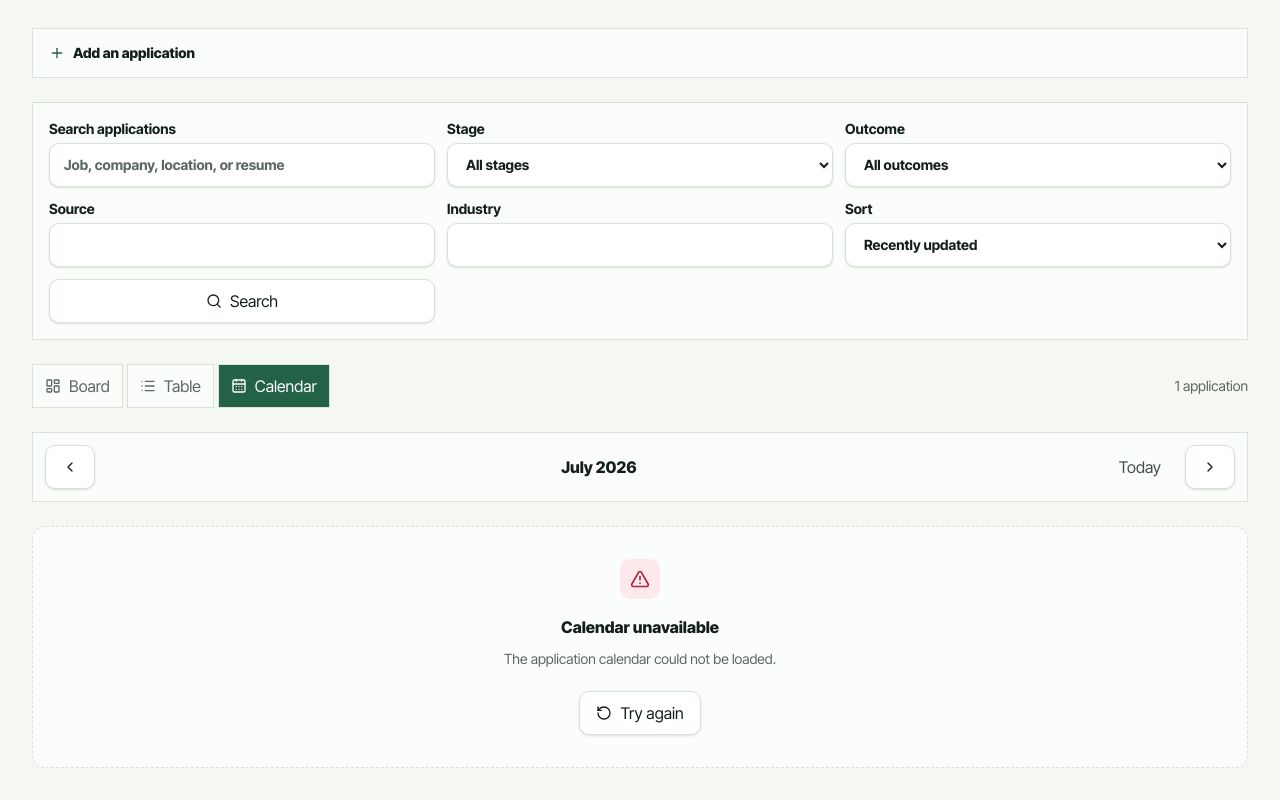
Test: Application Workspace list › shows an inline retry when the calendar request fails
(page scrolled)
Expected: the heading "Calendar unavailable" is shown, [561,616,719,636]
Click the button "Try again": (640, 712) [579,690,701,734]
(page scrolled)
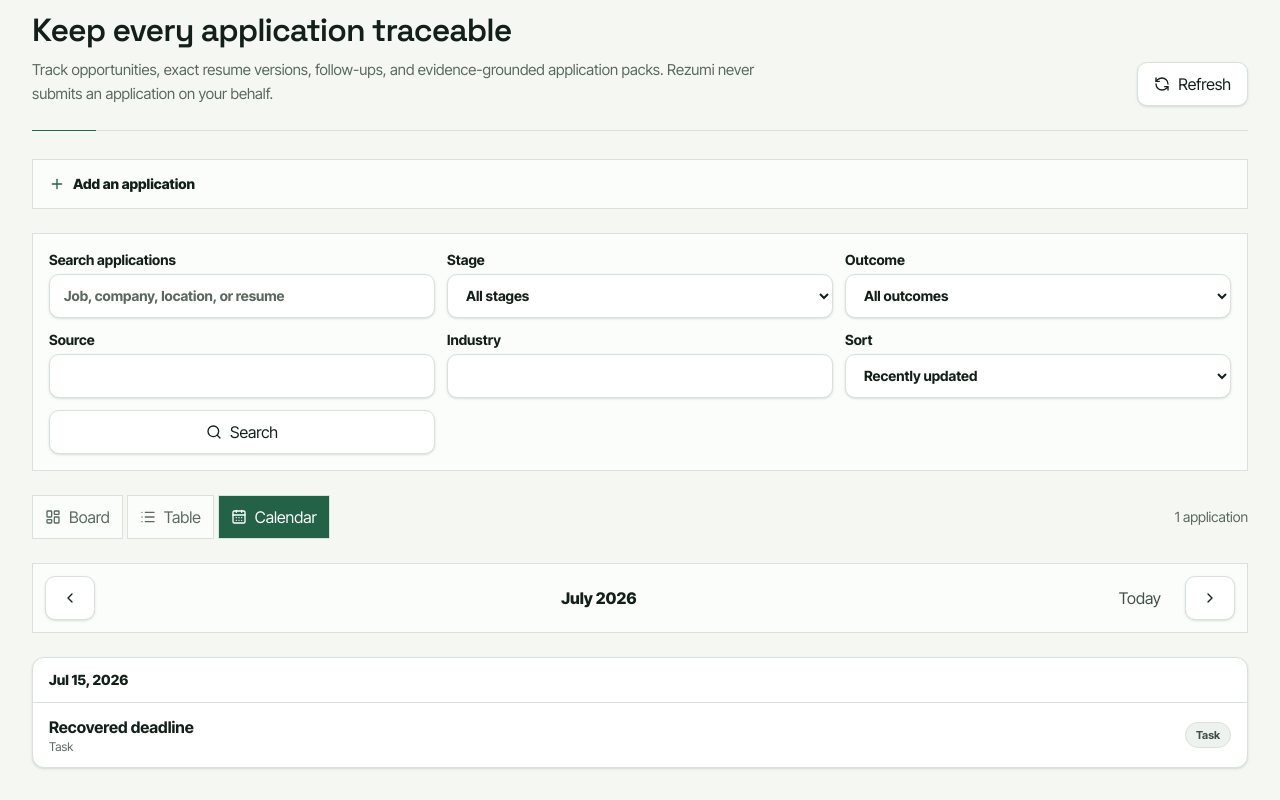
Expected: the link "Recovered deadline" is shown, [49,716,194,736]
